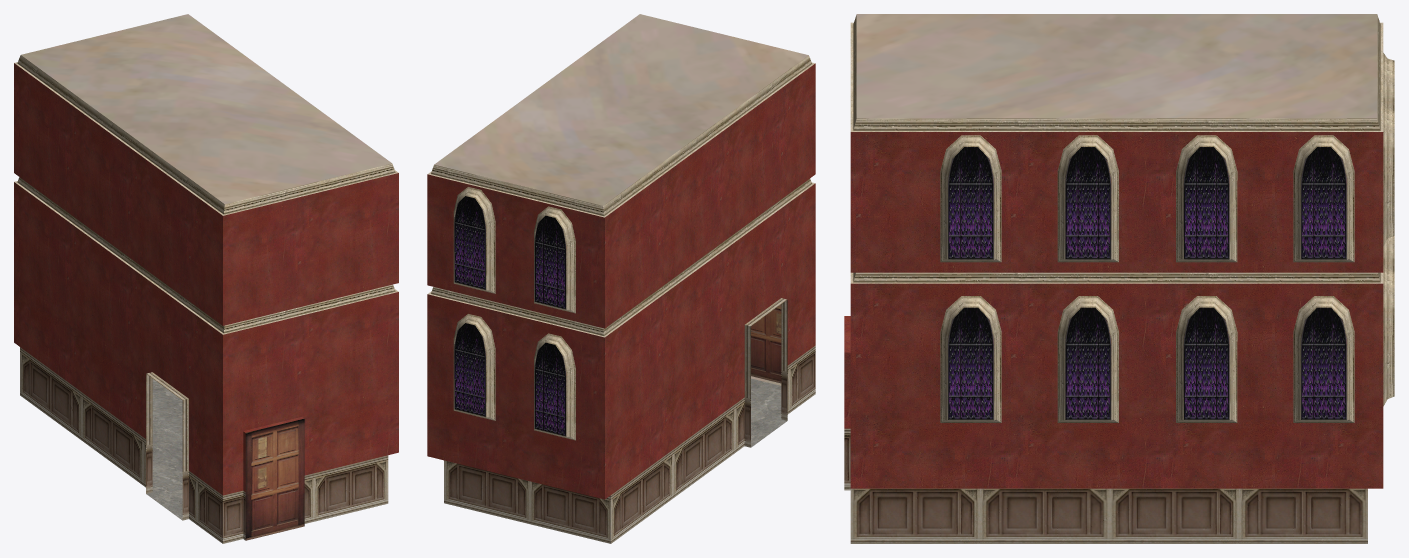
File: ply_nboo_house_m_s02_fp1_r1_bedroom1_mesh_r1.fbx
The picture shows the model from 3 angles, left to right: view 1: azimuth 30°, elevation 25°; view 2: azimuth 150°, elevation 25°; view 3: azimuth 270°, elevation 25°; orthographic projection. The views are drawn at different scales.
Visible parts, largest first — view 1: mesh_node; view 2: mesh_node; view 3: mesh_node.
Boxes of the visible parts, x1=… form: mesh_node: x1=14, y1=14, x2=398, y2=543; mesh_node: x1=427, y1=14, x2=815, y2=543; mesh_node: x1=844, y1=14, x2=1394, y2=543.
Bounding box in the file's own units: 4.51 × 7.65 × 8.88.
